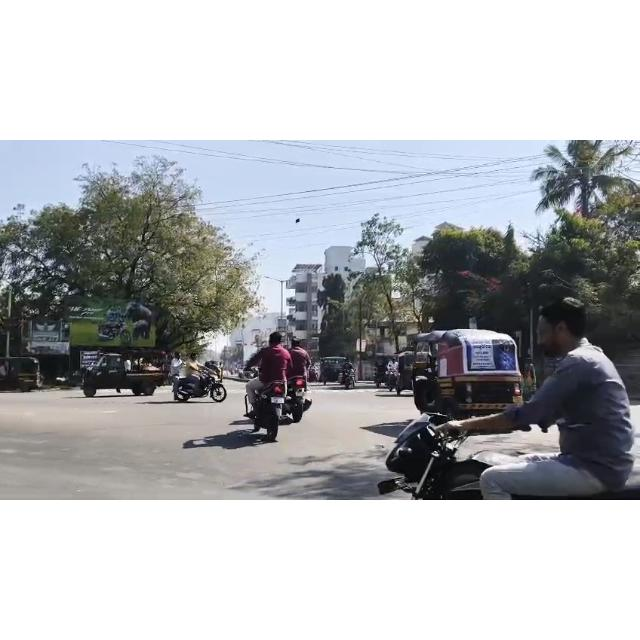auto: (411, 320, 532, 424), (0, 351, 45, 401), (401, 349, 423, 393), (320, 356, 350, 382), (375, 353, 397, 387)
